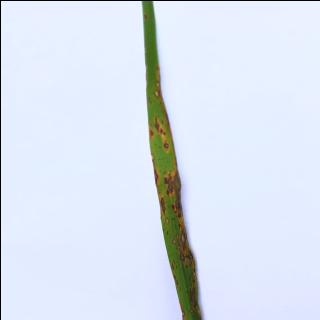Blast: (164, 170, 180, 197), (178, 248, 192, 264), (177, 230, 186, 248), (158, 196, 164, 214), (153, 116, 159, 132), (153, 169, 159, 183)
